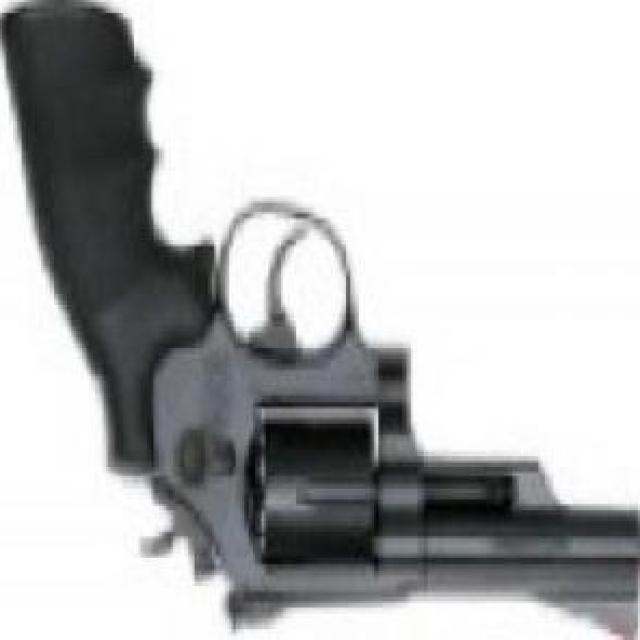pistol: (0, 6, 629, 634)
